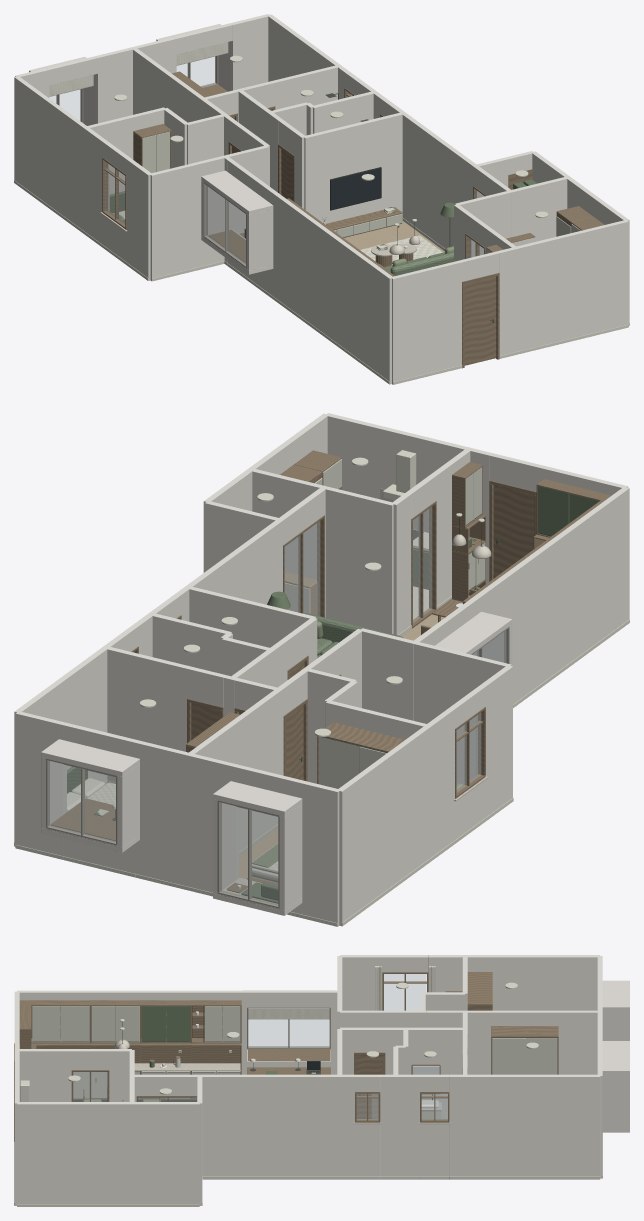
File: house.glb
The picture shows the model from 3 angles, top to bottom: view 1: azimuth 30°, elevation 25°; view 2: azimuth 150°, elevation 25°; view 3: azimuth 270°, elevation 25°; orthographic projection. The views are drawn at different scales.
Parts seen in each view (by area): view 1: Wall 04 / pier.001, Wall 03 / pier.001, Wall 01 / pier, Wall 13 / pier, Wall 04 / pier, Wall 07 / pier.002, Wall 02 / pier, Wall 00 / pier.001, Wall 08 / pier, Wall 15 / pier, Wall 07 / pier, entry_door / oak door leaf (+42 smaller); view 2: Wall 03 / pier.001, Wall 01 / pier, Wall 00 / pier.001, Wall 16 / pier, Wall 04 / pier.001, Wall 10 / pier.002, Wall 02 / pier, Wall 08 / pier, Wall 00 / pier, Wall 00 / pier.002, Wall 07 / pier, Wall 07 / pier.002 (+55 smaller); view 3: Wall 05 / pier, Wall 07 / pier.002, Wall 07 / pier, Wall 01 / pier, Wall 08 / pier, Wall 07 / pier.001, Wall 11 / pier, Wall 03 / pier.001, Wall 17 / pier.001, Wall 01 / pier.001, Wall 07 / sill, Wall 03 / lintel (+52 smaller).
Part boxes in pixels (box(x1,y1,x2,y2)): Wall 04 / pier.001: box(497, 220, 628, 355); Wall 03 / pier.001: box(271, 191, 393, 384); Wall 01 / pier: box(14, 76, 106, 244); Wall 13 / pier: box(304, 112, 402, 223); Wall 04 / pier: box(391, 260, 461, 384); Wall 07 / pier.002: box(393, 107, 476, 248); Wall 02 / pier: box(150, 155, 226, 280); Wall 00 / pier.001: box(95, 37, 176, 123); Wall 08 / pier: box(132, 48, 206, 122); Wall 15 / pier: box(511, 177, 568, 246); Wall 07 / pier: box(268, 14, 348, 99); entry_door / oak door leaf: box(464, 276, 496, 365); Wall 03 / pier.001: box(473, 487, 629, 704); Wall 01 / pier: box(339, 708, 454, 926); Wall 00 / pier.001: box(135, 740, 238, 892); Wall 16 / pier: box(324, 486, 394, 634); Wall 04 / pier.001: box(325, 413, 492, 583); Wall 10 / pier.002: box(107, 647, 190, 782); Wall 02 / pier: box(413, 641, 511, 784); Wall 08 / pier: box(188, 687, 283, 851); Wall 00 / pier: box(297, 780, 340, 926); Wall 00 / pier.002: box(15, 711, 66, 856); Wall 07 / pier: box(14, 639, 118, 846); Wall 07 / pier.002: box(175, 519, 282, 621); Wall 05 / pier: box(17, 1102, 199, 1203); Wall 07 / pier.002: box(199, 1074, 354, 1176); Wall 07 / pier: box(449, 1074, 600, 1176); Wall 01 / pier: box(428, 955, 600, 1010); Wall 08 / pier: box(462, 1010, 599, 1074); Wall 07 / pier.001: box(380, 1074, 419, 1176); Wall 11 / pier: box(385, 1027, 464, 1118); Wall 03 / pier.001: box(17, 990, 246, 1074); Wall 17 / pier.001: box(17, 1049, 71, 1101); Wall 01 / pier.001: box(340, 955, 382, 1010); Wall 07 / sill: box(420, 1124, 449, 1176); Wall 03 / lintel: box(247, 990, 330, 1007).
Size of the model in its own units: 8.46 by 2.71 by 14.67.
Materials: 34 (14 with a texture image).
